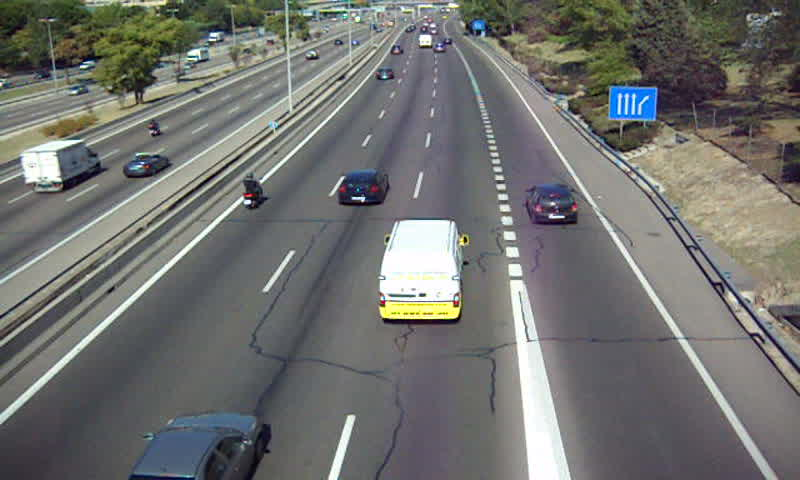car: (130, 414, 262, 480), (524, 184, 580, 226), (337, 169, 389, 205), (376, 66, 396, 82)
motorcycle: (239, 173, 262, 212)
van: (379, 220, 462, 320)
